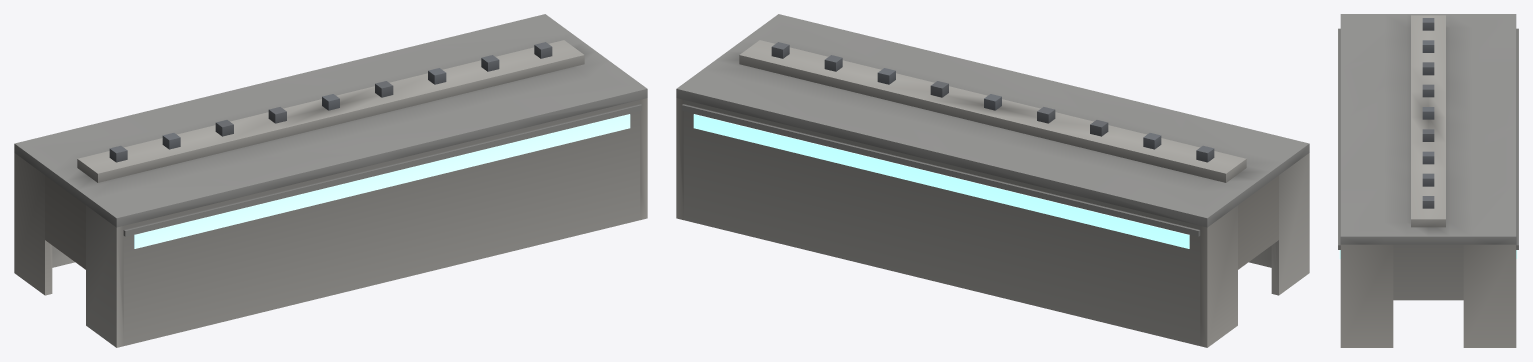
The model's file is 02_turbine_hall.glb.
3 renders of one model, left to right at view 1: azimuth 30°, elevation 25°; view 2: azimuth 150°, elevation 25°; view 3: azimuth 270°, elevation 25°, orthographic. The views are drawn at different scales.
Parts seen in each view (by area): view 1: turbine_hall_concrete, turbine_hall_concretedark, turbine_hall_glass_nocol, turbine_hall_steeldark; view 2: turbine_hall_concrete, turbine_hall_concretedark, turbine_hall_glass_nocol, turbine_hall_steeldark; view 3: turbine_hall_concretedark, turbine_hall_concrete, turbine_hall_steeldark.
Boxes of the visible parts, <box> form: turbine_hall_concrete: <box>14,40,647,347</box>; turbine_hall_concretedark: <box>14,14,647,236</box>; turbine_hall_glass_nocol: <box>134,114,630,248</box>; turbine_hall_steeldark: <box>109,42,552,162</box>; turbine_hall_concrete: <box>676,40,1309,347</box>; turbine_hall_concretedark: <box>676,14,1309,236</box>; turbine_hall_glass_nocol: <box>693,114,1189,248</box>; turbine_hall_steeldark: <box>771,42,1214,162</box>; turbine_hall_concretedark: <box>1338,14,1518,249</box>; turbine_hall_concrete: <box>1340,15,1516,347</box>; turbine_hall_steeldark: <box>1422,18,1434,208</box>.
Bounding box in the file's own units: 137 × 36.63 × 47.16.
